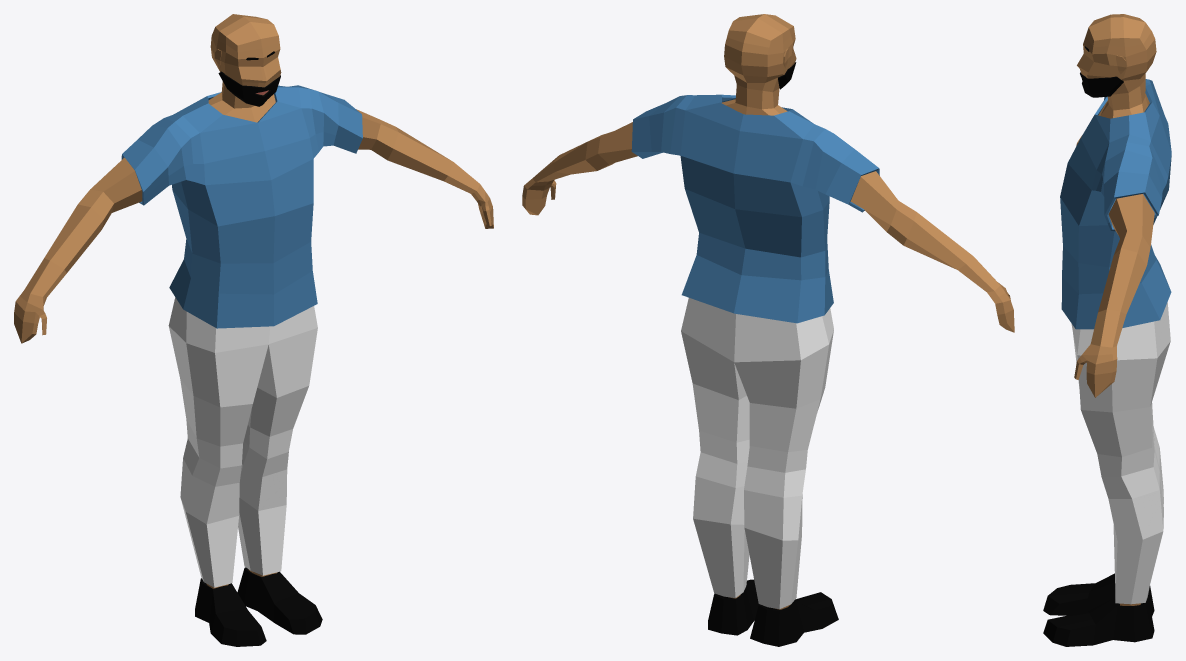
Rendered from Npc5.fbx.
3 renders of one model, left to right at view 1: azimuth 30°, elevation 25°; view 2: azimuth 150°, elevation 25°; view 3: azimuth 270°, elevation 25°, orthographic. The views are drawn at different scales.
Parts seen in each view (by area): view 1: Body.004; view 2: Body.004; view 3: Body.004.
Boxes of the visible parts, box(x1,y1,x2,y2) form: Body.004: box(14, 14, 493, 646); Body.004: box(522, 14, 1014, 646); Body.004: box(1043, 14, 1171, 646).
Bounding box in the file's own units: 537 × 646 × 124.
